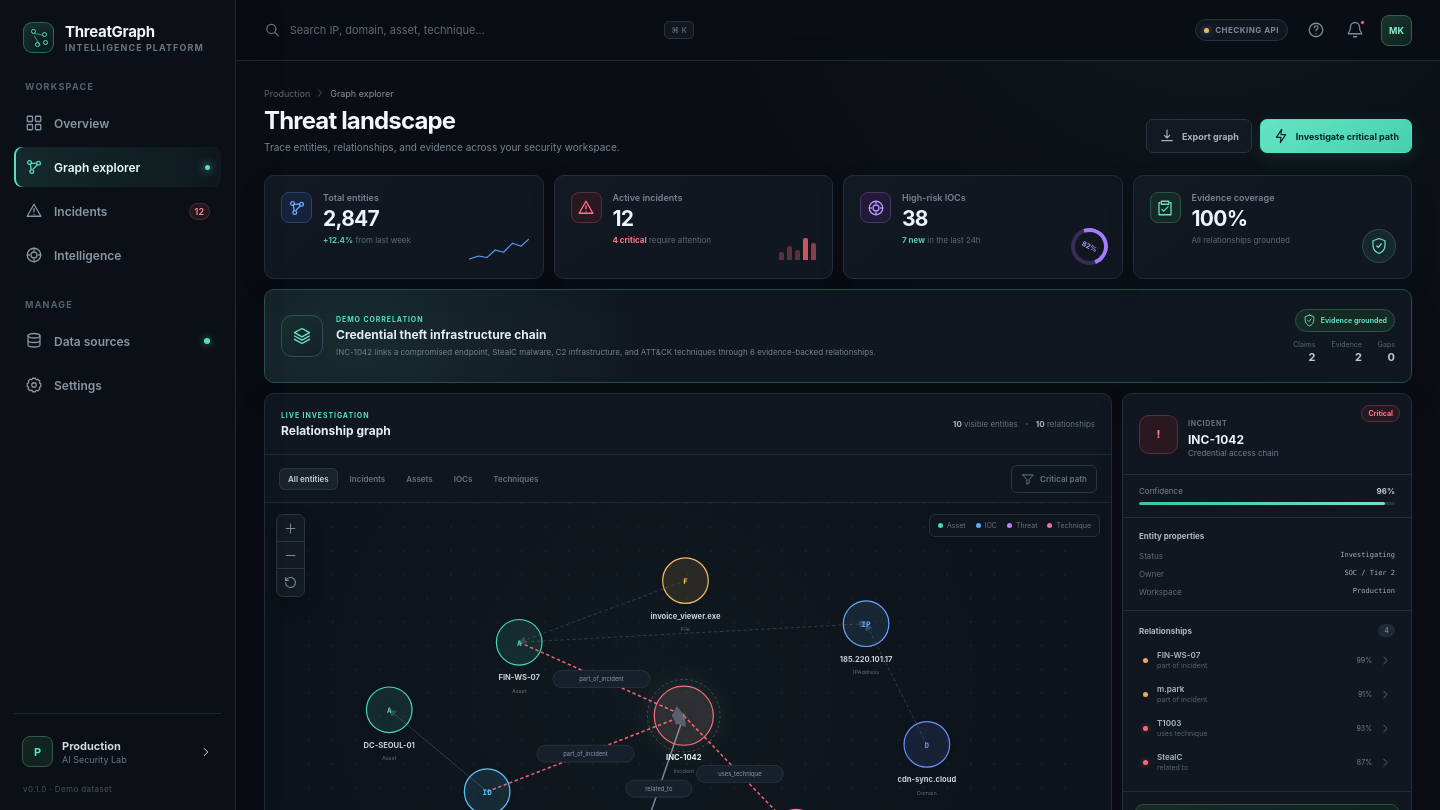
Test case: ThreatGraph dashboard › finds and focuses an entity with the global search
Type "StealC" into the field named "Search threat graph". click: (492, 30)
box: [290,14,694,46]
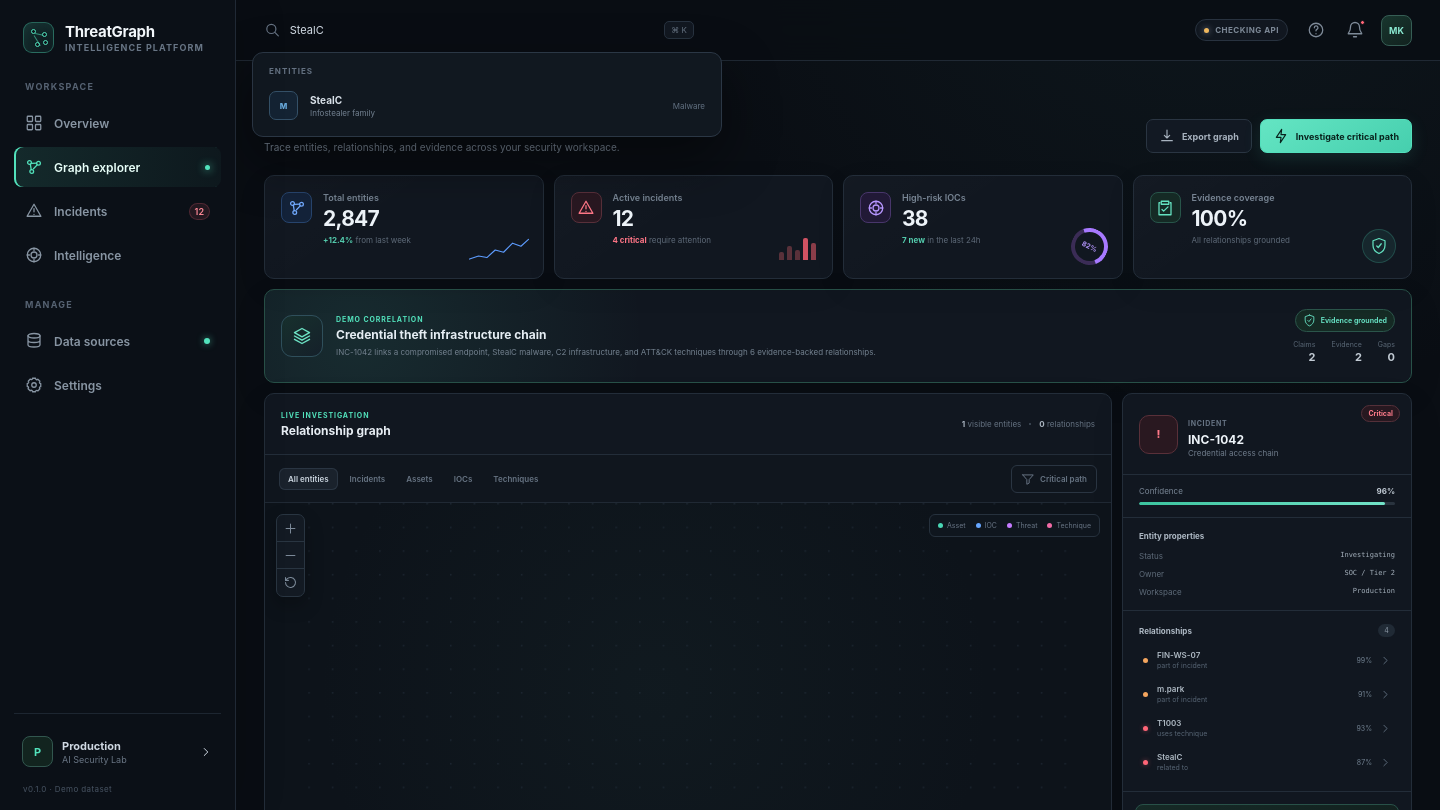
Click the button "M StealC Infostealer family Malware". click: (326, 100)
box: [261,83,713,128]
(page scrolled)
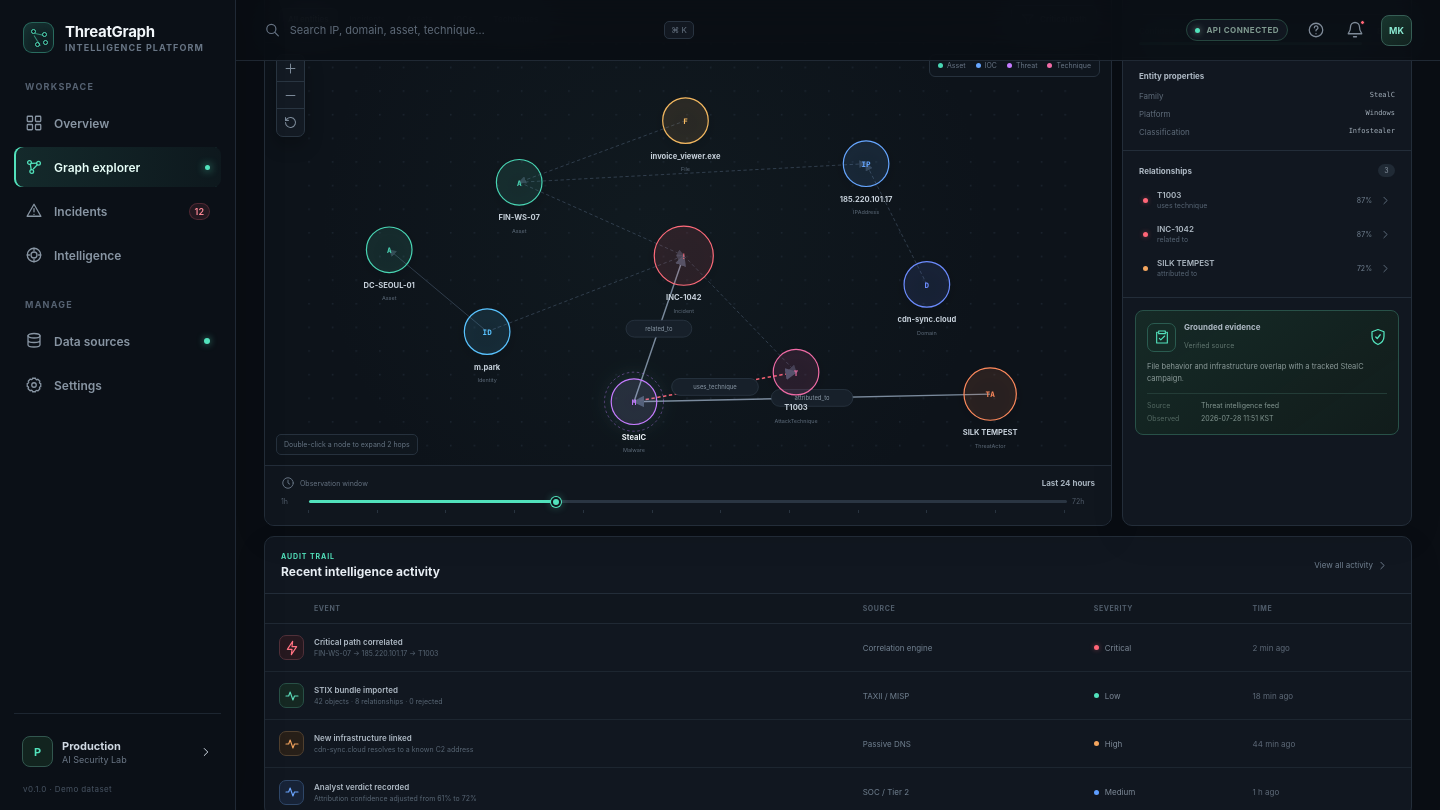
Now the text "Threat intelligence feed" is shown, box [1201,401,1279,410]
